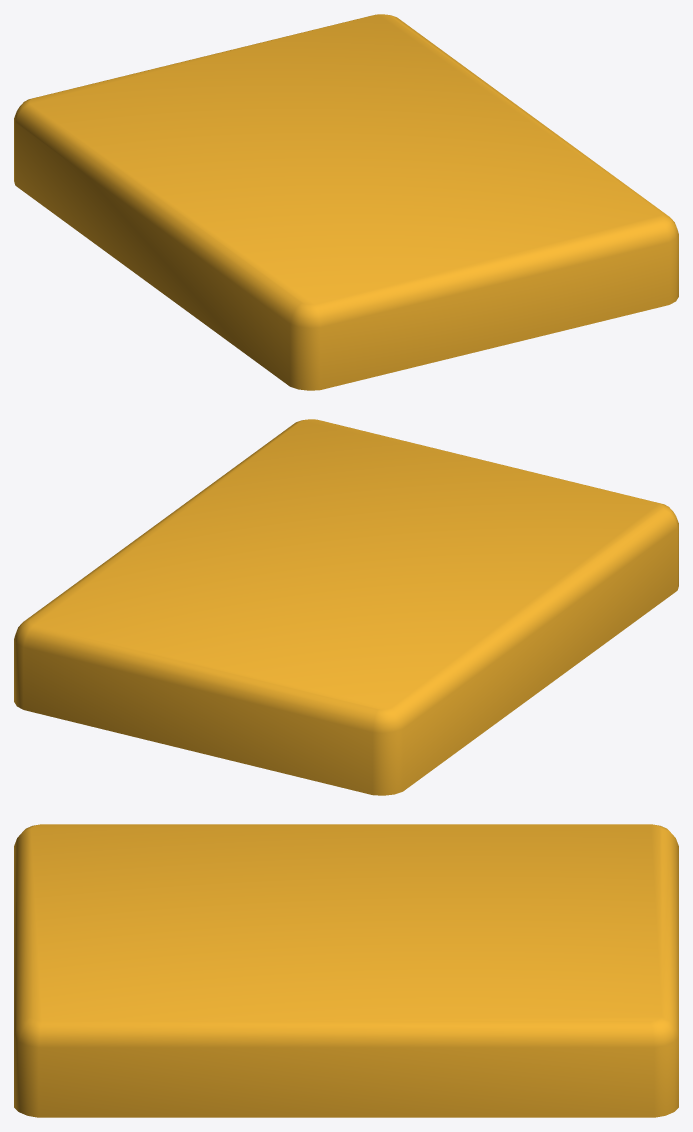
Rendered from Bed_Queen.fbx.
3 renders of one model, top to bottom at view 1: azimuth 30°, elevation 25°; view 2: azimuth 150°, elevation 25°; view 3: azimuth 270°, elevation 25°, orthographic. The views are drawn at different scales.
Parts seen in each view (by area): view 1: Bed_Queen; view 2: Bed_Queen; view 3: Bed_Queen.
Boxes of the visible parts, bbox=[...] form: Bed_Queen: bbox=[14, 14, 678, 390]; Bed_Queen: bbox=[14, 419, 678, 795]; Bed_Queen: bbox=[14, 824, 678, 1117].
Bounding box in the file's own units: 153 × 30 × 203.
Materials: 1 (1 with a texture image).
